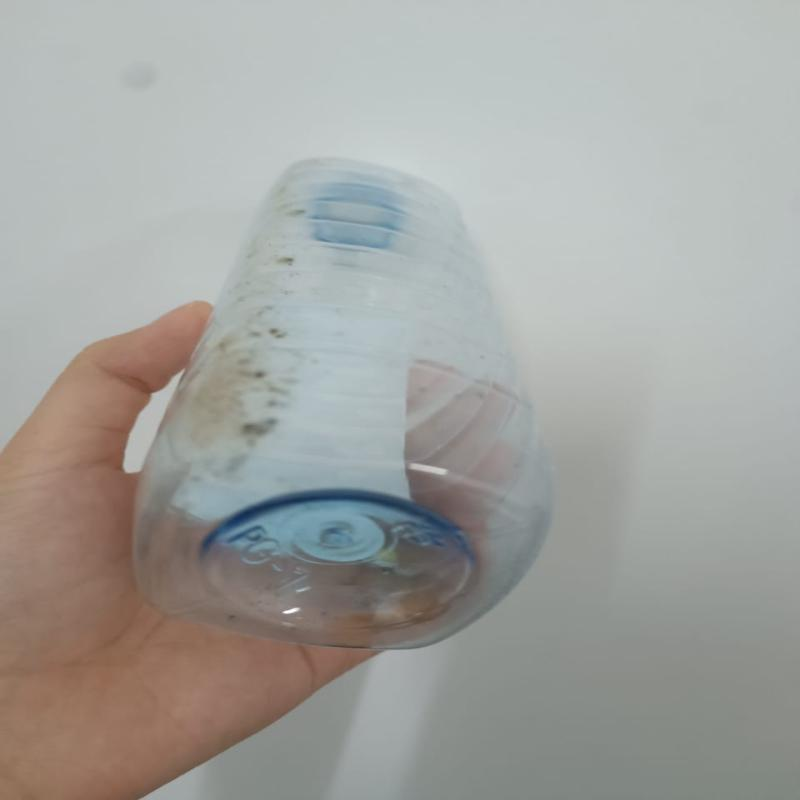botella: (137, 157, 558, 654)
